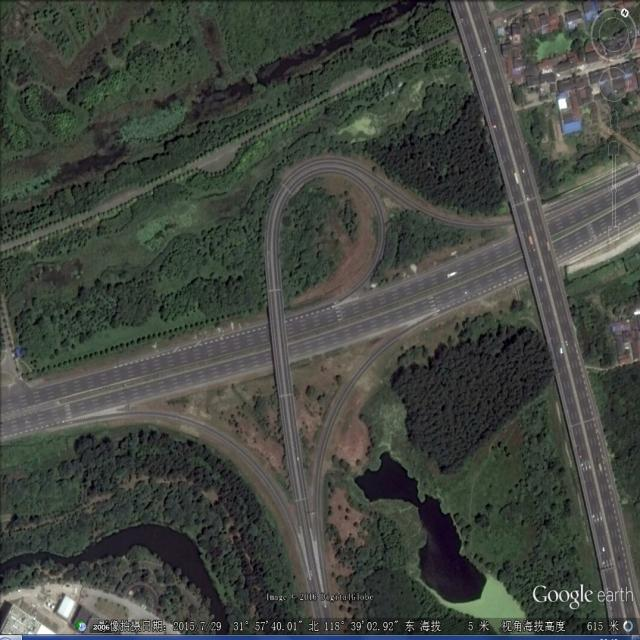overpass: (262, 152, 512, 559)
